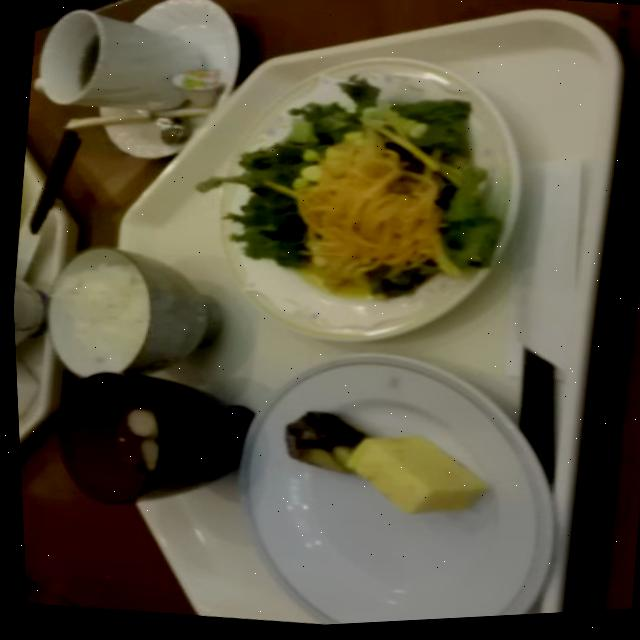汤锅炖物: (38, 353, 263, 526)
米饭主食: (21, 228, 239, 400)
鸡蛋料理: (320, 415, 503, 542)
